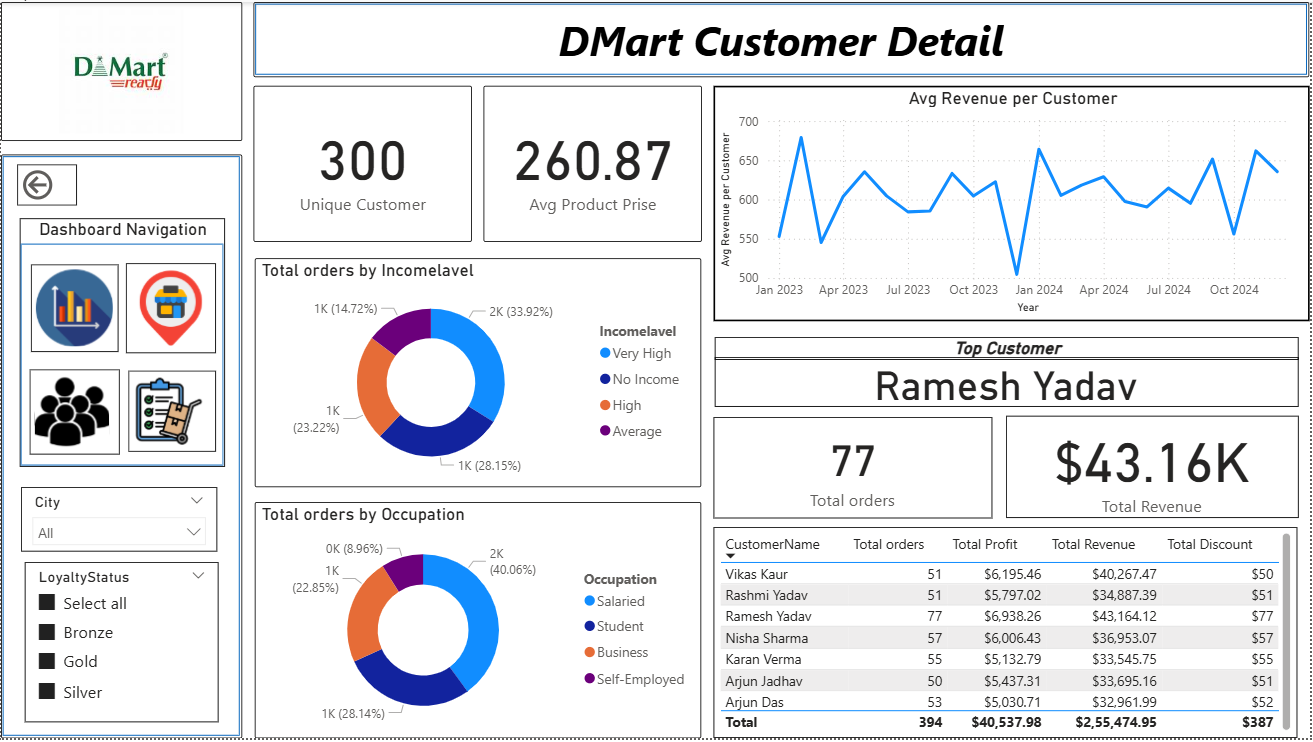

The page's visual inventory and layout, read from the dashboard file:
{"tool":"powerbi","page":{"name":"Page 3","canvas":[1280,720],"ordinal":2},"visuals":[{"type":"shape","box":[246.7,0,1033,73.6],"z":0},{"type":"shape","title":"Dashboard Navigation","box":[18.3,211.6,200.5,243.3],"z":0,"group":"g2"},{"type":"card","fields":{"Values":["Min(Customer_Profile_Dim.CustomerName)"]},"box":[698.3,348.2,571.1,48.9],"z":0,"group":"g1"},{"type":"image","box":[0,0,236,135.7],"z":1000},{"type":"actionButton","box":[29.3,256.9,85.6,85.6],"z":1000,"group":"g2"},{"type":"shape","title":"Top Customer","box":[697.9,328.1,571.1,22],"z":1000,"group":"g1"},{"type":"shape","box":[0,149.2,236,571.1],"z":2000},{"type":"actionButton","box":[122.2,255.6,88,88],"z":2000,"group":"g2"},{"type":"card","fields":{"Values":["Measure Table .Unique Customer"]},"box":[246.7,82.2,213.5,152.9],"z":3000},{"type":"actionButton","box":[28.1,359.6,88,83.2],"z":3000,"group":"g2"},{"type":"card","fields":{"Values":["Measure Table .Avg Product Prise"]},"box":[471.8,82.2,213.5,152.9],"z":4000},{"type":"actionButton","box":[124.7,360.8,85.6,79.5],"z":4000,"group":"g2"},{"type":"lineChart","title":"Avg Revenue per Customer ","fields":{"Category":["Date_Dim.Date.Variation.Date Hierarchy.Year","Date_Dim.Date.Variation.Date Hierarchy.Quarter","Date_Dim.Date.Variation.Date Hierarchy.Month","Date_Dim.Date.Variation.Date Hierarchy.Day"],"Y":["Measure Table .Avg Revenue per Customer"]},"box":[696.9,82.5,583.1,230.4],"z":5000},{"type":"donutChart","fields":{"Category":["Customer_Profile_Dim.Incomelavel"],"Y":["Measure Table .Total orders"]},"box":[248.2,251,437.2,223.6],"z":6000},{"type":"donutChart","fields":{"Category":["Customer_Profile_Dim.Occupation"],"Y":["Measure Table .Total orders"]},"box":[248,489,437,231],"z":7000},{"type":"group","id":"g1","title":"Group 1","box":[697.9,328.1,571.5,69],"z":8000},{"type":"card","fields":{"Values":["Measure Table .Total orders"]},"box":[696.9,405.4,272.7,99.6],"z":9000},{"type":"card","fields":{"Values":["Measure Table .Total Revenue"]},"box":[983.2,404.8,286.1,100.3],"z":10000},{"type":"tableEx","fields":{"Values":["Customer_Profile_Dim.CustomerName","Measure Table .Total orders","Measure Table .Total Profit","Measure Table .Total Revenue","Measure Table .Total Discount"]},"box":[697,513.6,571.1,206.7],"z":11000},{"type":"slicer","fields":{"Values":["Customer_Profile_Dim.City"]},"box":[19.6,474.5,192,63.6],"z":12000},{"type":"slicer","fields":{"Values":["Customer_Profile_Dim.LoyaltyStatus"]},"box":[23.2,547.8,189.5,156.5],"z":13000},{"type":"actionButton","box":[15.9,159,58.7,40.4],"z":14000},{"type":"group","id":"g2","title":"Group 3","box":[18.3,211.6,200.5,243.3],"z":14001}]}

Visuals, with their boxes in screenshot pixels (x1, y1, x2, y2), scaled from the page's 1280x720 canvas onto the 1313x742 screenshot:
shape: box(253, 0, 1312, 76)
"Dashboard Navigation" shape: box(19, 218, 224, 469)
card - Min(Customer_Profile_Dim.CustomerName): box(716, 359, 1302, 409)
image: box(0, 0, 242, 140)
actionButton: box(30, 265, 118, 353)
"Top Customer" shape: box(716, 338, 1302, 361)
shape: box(0, 154, 242, 741)
actionButton: box(125, 263, 216, 354)
card - Measure Table .Unique Customer: box(253, 85, 472, 242)
actionButton: box(29, 371, 119, 456)
card - Measure Table .Avg Product Prise: box(484, 85, 703, 242)
actionButton: box(128, 372, 216, 454)
"Avg Revenue per Customer " lineChart: box(715, 85, 1312, 322)
donutChart - Customer_Profile_Dim.Incomelavel x Measure Table .Total orders: box(255, 259, 703, 489)
donutChart - Customer_Profile_Dim.Occupation x Measure Table .Total orders: box(254, 504, 703, 741)
"Group 1" group: box(716, 338, 1302, 409)
card - Measure Table .Total orders: box(715, 418, 995, 520)
card - Measure Table .Total Revenue: box(1009, 417, 1302, 521)
tableEx - Customer_Profile_Dim.CustomerName x Measure Table .Total orders: box(715, 529, 1301, 741)
slicer - Customer_Profile_Dim.City: box(20, 489, 217, 555)
slicer - Customer_Profile_Dim.LoyaltyStatus: box(24, 565, 218, 726)
actionButton: box(16, 164, 77, 205)
"Group 3" group: box(19, 218, 224, 469)
